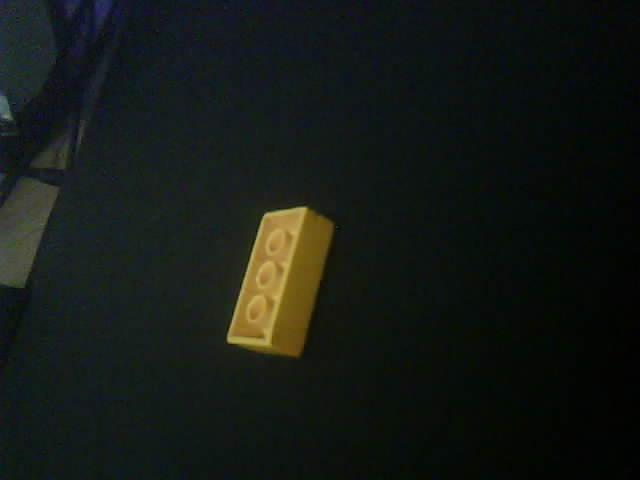lego: (225, 206, 335, 358)
